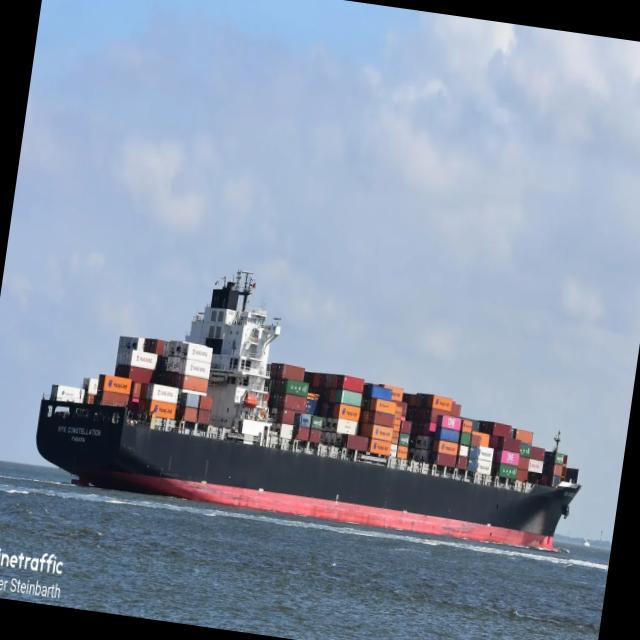Cargo: (36, 271, 580, 549)
